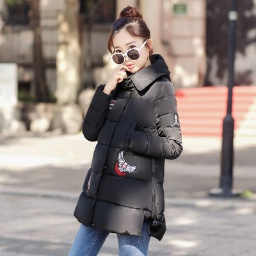face: (94, 5, 163, 78)
